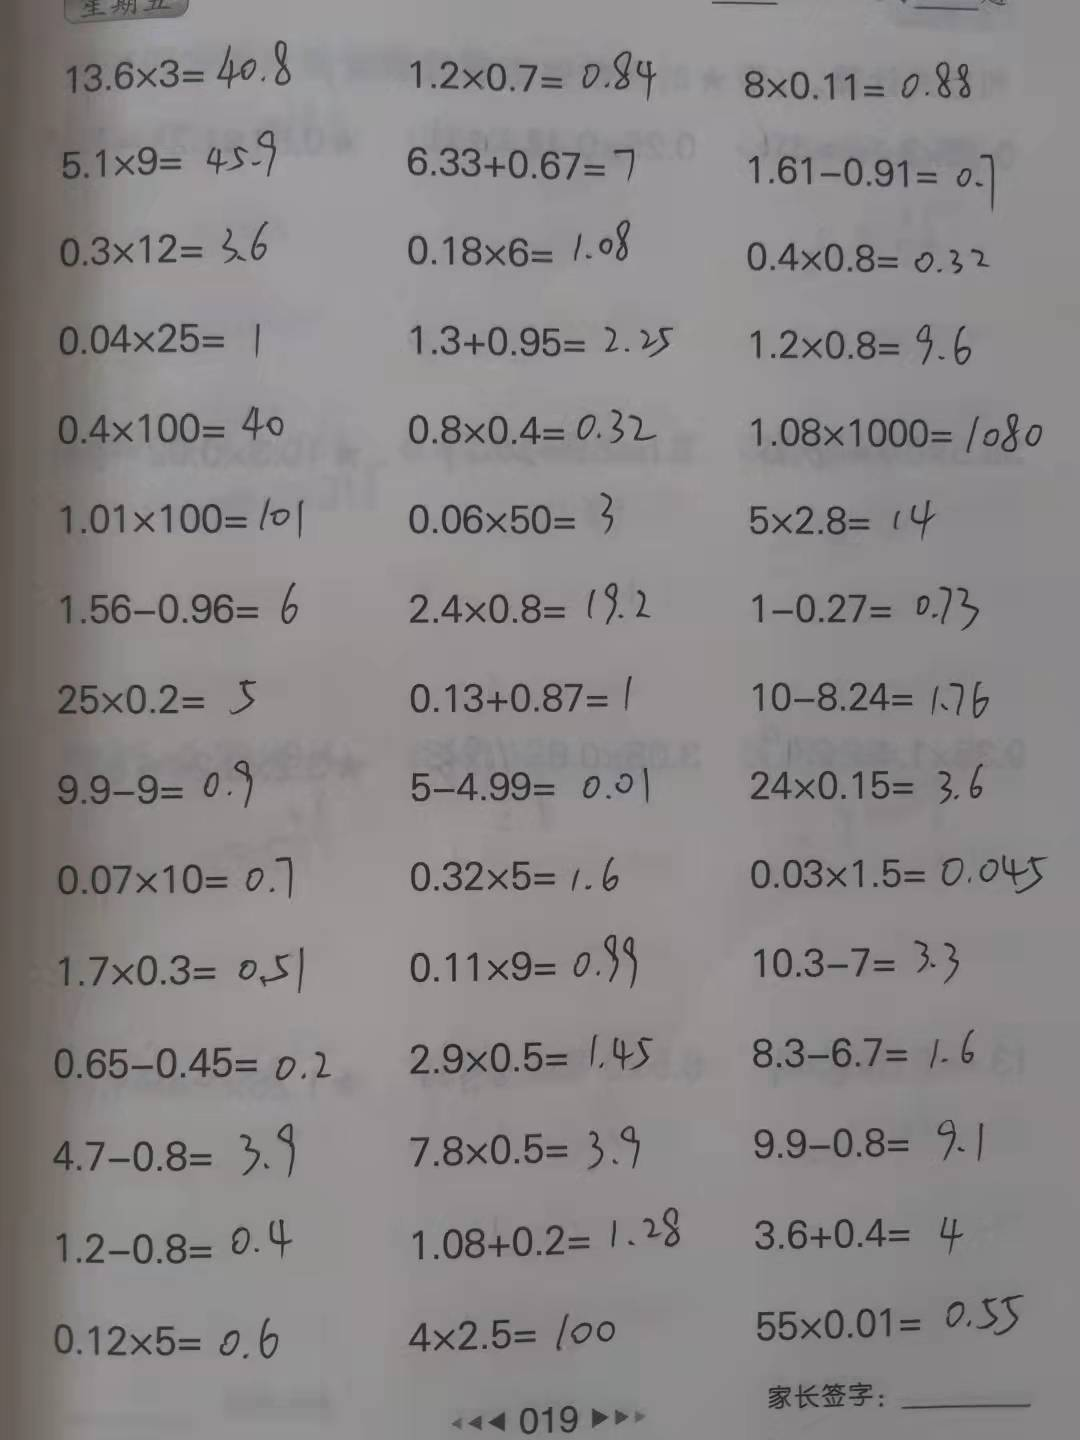equation: (407, 1196, 704, 1267), (47, 1113, 313, 1187), (410, 31, 666, 105), (733, 842, 1053, 900), (50, 933, 319, 1000), (47, 113, 293, 185), (393, 132, 690, 190), (397, 568, 663, 634), (752, 1288, 1026, 1350), (740, 399, 1051, 454), (735, 145, 1006, 207), (398, 214, 644, 281), (405, 310, 683, 369), (37, 1033, 338, 1087), (54, 32, 298, 98), (45, 207, 280, 276), (44, 488, 313, 547), (742, 571, 992, 634), (742, 1113, 989, 1176), (407, 395, 668, 454), (393, 932, 646, 992), (410, 840, 628, 908), (49, 579, 317, 635), (395, 668, 647, 727), (44, 852, 307, 907), (53, 1217, 302, 1274), (402, 1025, 670, 1078), (400, 759, 663, 813), (739, 232, 999, 287), (393, 485, 632, 544), (735, 49, 984, 105), (44, 397, 289, 454), (399, 1124, 656, 1177), (752, 934, 971, 997), (743, 1026, 992, 1081), (49, 307, 277, 365), (750, 674, 999, 726), (737, 759, 995, 808), (41, 669, 271, 725), (752, 1204, 977, 1261), (743, 315, 981, 369), (42, 1313, 289, 1364), (746, 491, 947, 552), (40, 759, 270, 808), (400, 1311, 638, 1358)
